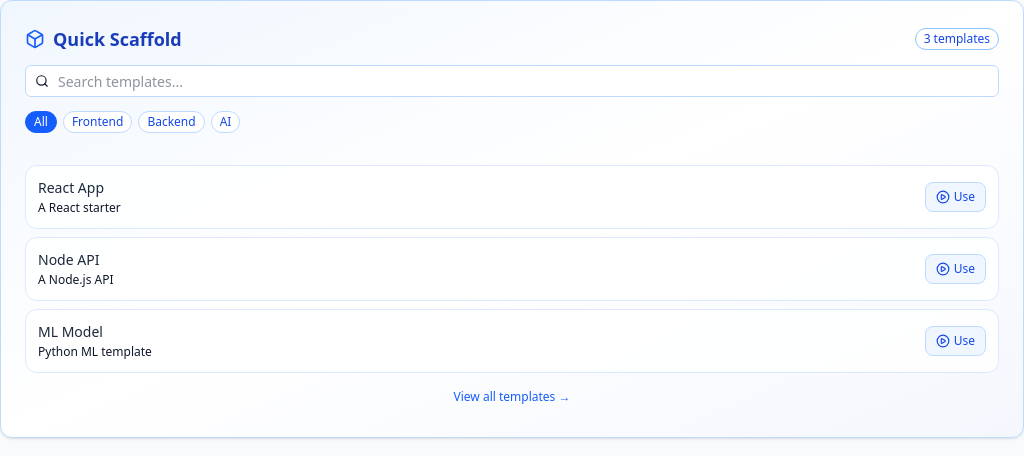
Scenario: QuickScaffoldWidget › shows 'No templates match' when search yields no results
Expected: the text "React App" is shown, 38,178 -> 104,197
Type "zzznomatch" into the field with placeholder "Search templates..." at (512, 81), box 25,65 -> 999,97
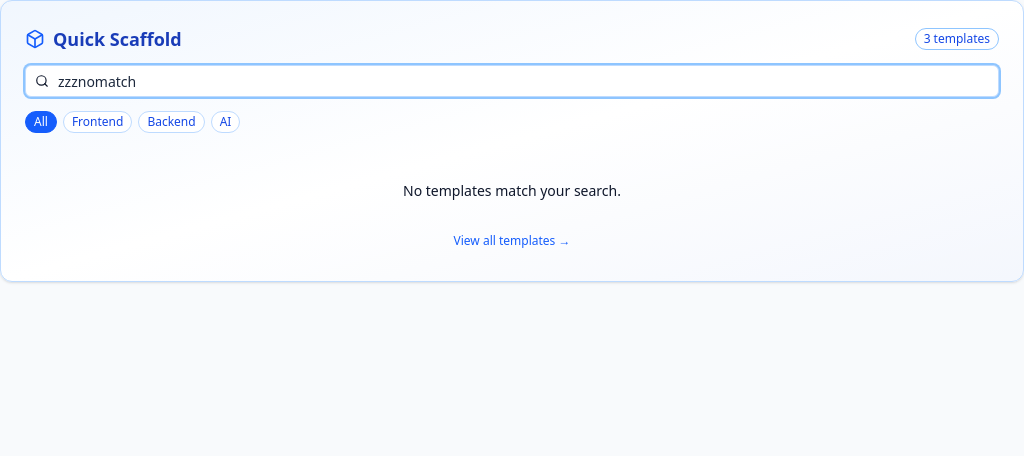
Expected: the text "No templates match your search." is shown, 403,181 -> 621,200
